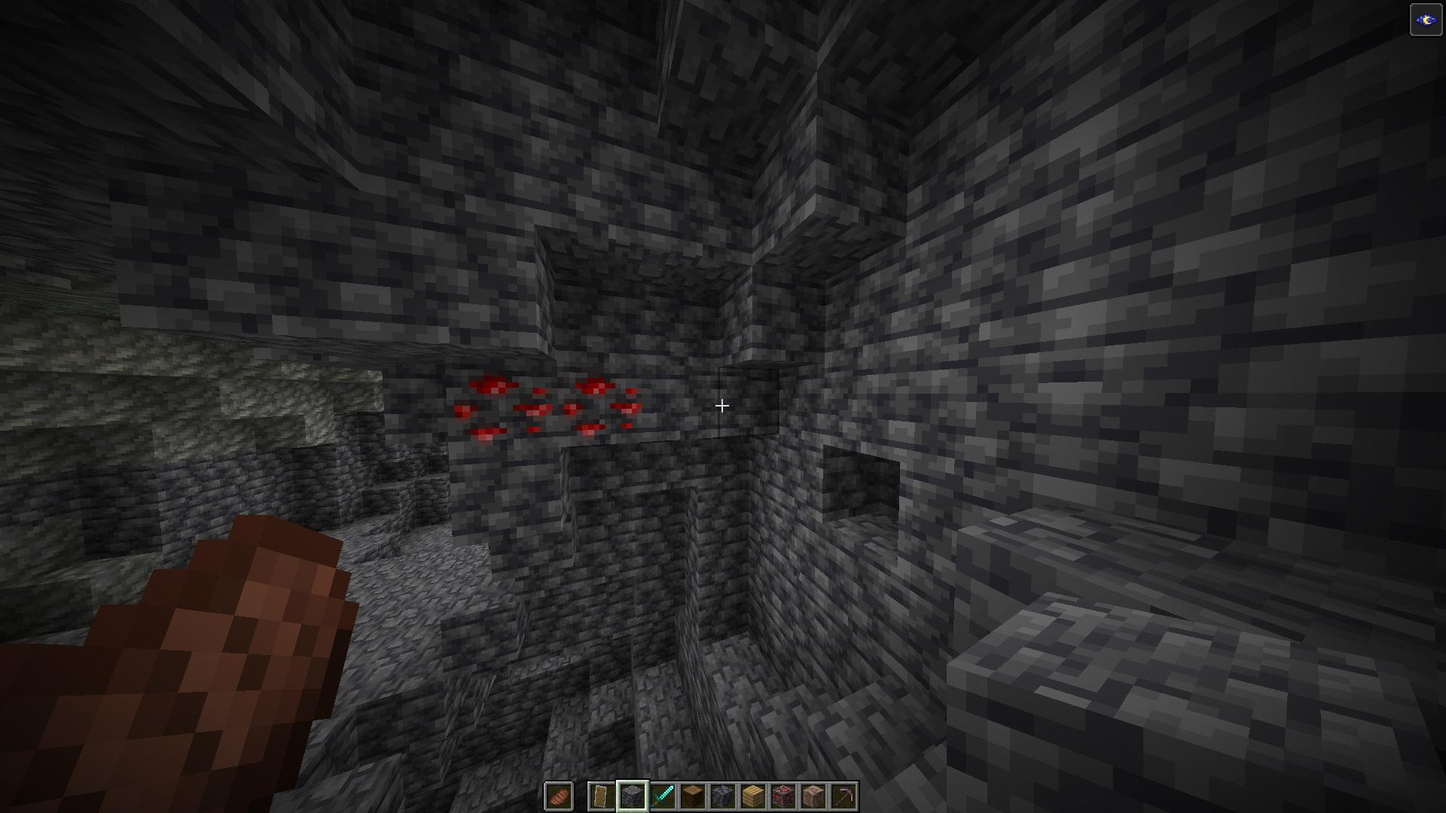redstone ore: (449, 366, 555, 445), (562, 369, 641, 439)
